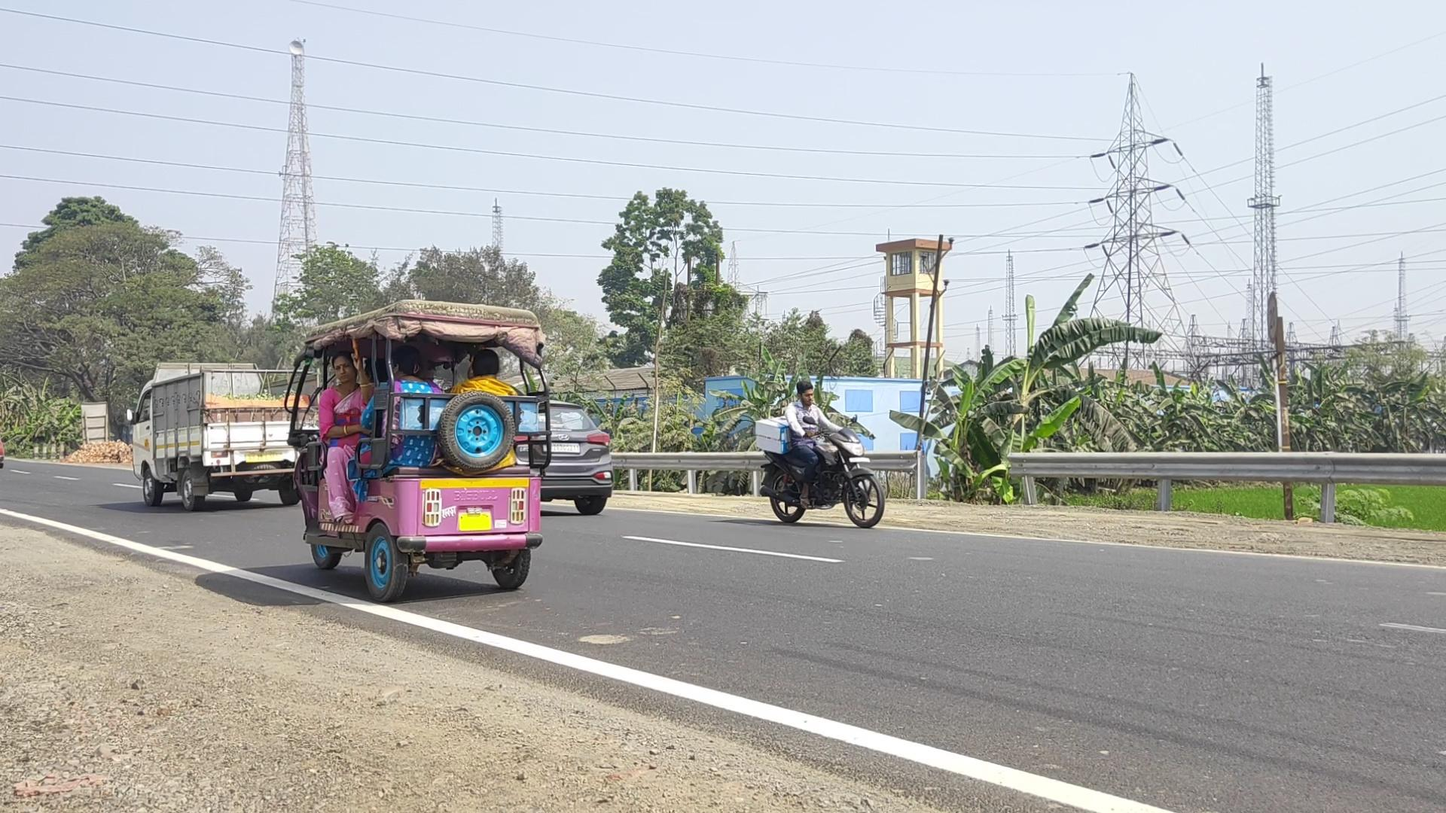Auto: (283, 298, 545, 604)
bike: (756, 382, 885, 528)
van: (127, 362, 322, 511)
